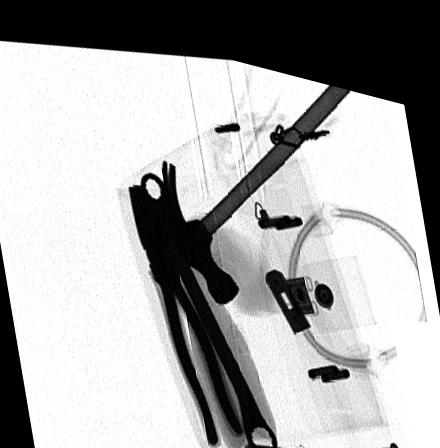Hammer: (160, 68, 354, 294)
Pliers: (125, 178, 249, 437)
Wrench: (141, 164, 281, 444)
